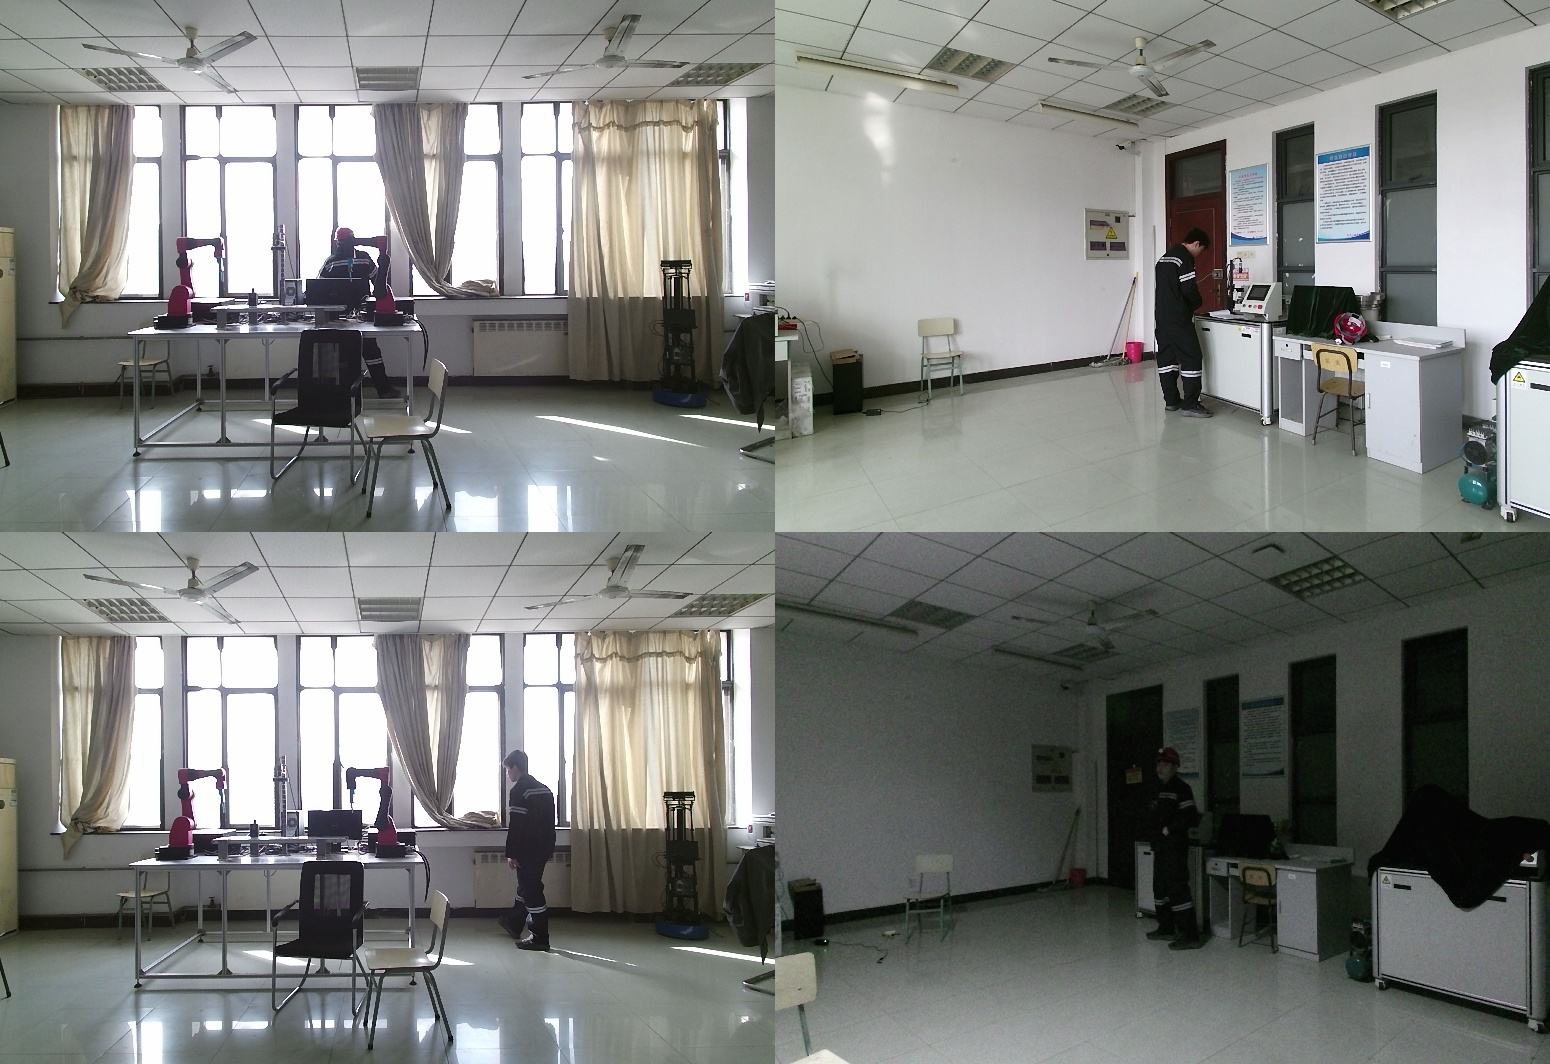person: (314, 229, 395, 402), (497, 748, 563, 955), (1163, 747, 1229, 953), (1156, 231, 1215, 428)
